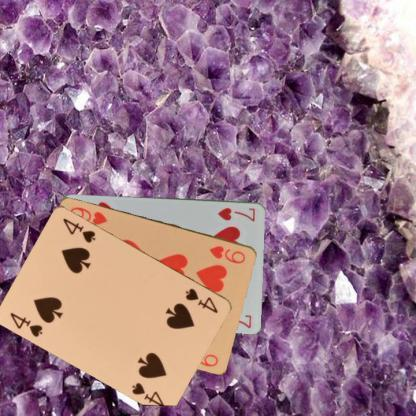4s: (182, 286, 219, 314), (7, 310, 44, 338)
7h: (216, 204, 256, 223)
9h: (207, 242, 247, 264)
